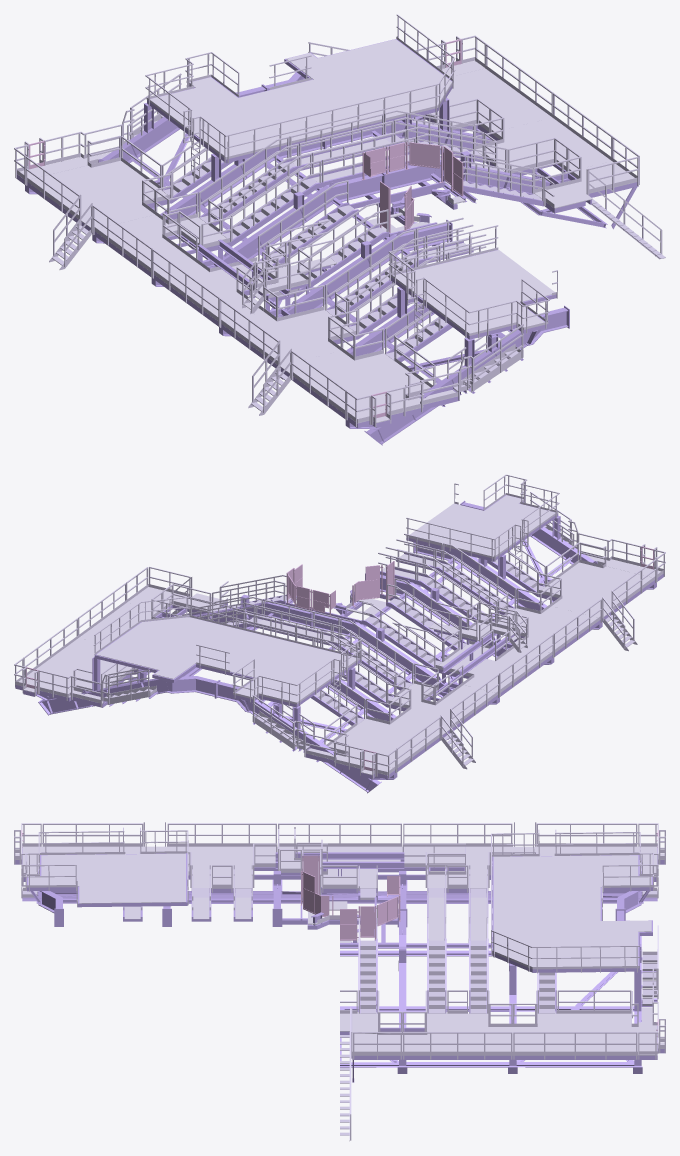
The model's file is HS-ARCHE-cut4.glb.
3 views of the same model, one above another, from view 1: azimuth 30°, elevation 25°; view 2: azimuth 150°, elevation 25°; view 3: azimuth 270°, elevation 25° (orthographic). The views are drawn at different scales.
Visible parts, largest first — view 1: _000001305BFF3130_IndexedFaceSet, _000001305BFF0340_IndexedFaceSet, _000001305BFF2E90_IndexedFaceSet, _000001305BFF0B20_IndexedFaceSet; view 2: _000001305BFF0340_IndexedFaceSet, _000001305BFF3130_IndexedFaceSet, _000001305BFF2E90_IndexedFaceSet, _000001305BFF0B20_IndexedFaceSet; view 3: _000001305BFF3130_IndexedFaceSet, _000001305BFF0340_IndexedFaceSet, _000001305BFF2E90_IndexedFaceSet, _000001305BFF0B20_IndexedFaceSet.
Part boxes in pixels (box(x1,y1,x2,y2)): _000001305BFF3130_IndexedFaceSet: box(17, 39, 637, 423); _000001305BFF0340_IndexedFaceSet: box(14, 14, 665, 427); _000001305BFF2E90_IndexedFaceSet: box(16, 39, 638, 445); _000001305BFF0B20_IndexedFaceSet: box(28, 39, 463, 424); _000001305BFF0340_IndexedFaceSet: box(14, 474, 665, 778); _000001305BFF3130_IndexedFaceSet: box(15, 495, 663, 775); _000001305BFF2E90_IndexedFaceSet: box(15, 495, 663, 793); _000001305BFF0B20_IndexedFaceSet: box(26, 546, 654, 775); _000001305BFF3130_IndexedFaceSet: box(15, 846, 664, 1055); _000001305BFF0340_IndexedFaceSet: box(14, 822, 665, 1141); _000001305BFF2E90_IndexedFaceSet: box(14, 848, 665, 1082); _000001305BFF0B20_IndexedFaceSet: box(21, 830, 658, 1042).
Size of the model in its own units: 22.54 by 6.76 by 26.59.
